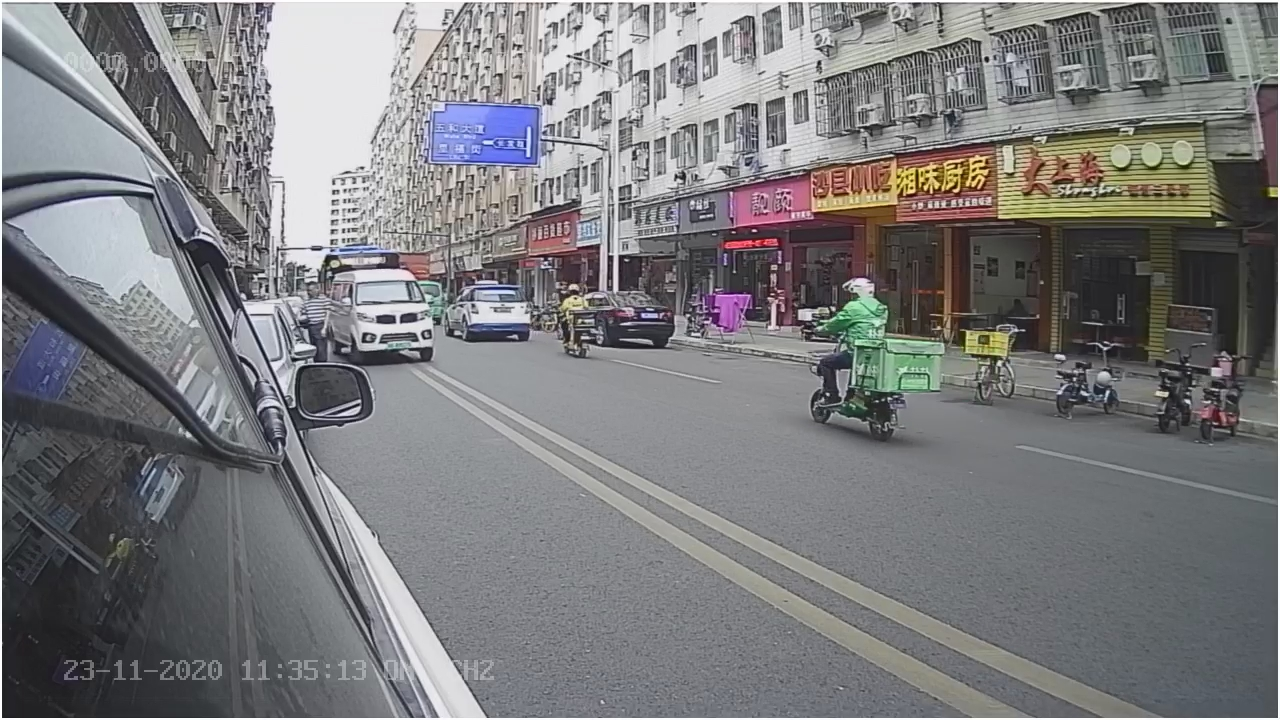person: (815, 262, 897, 345)
